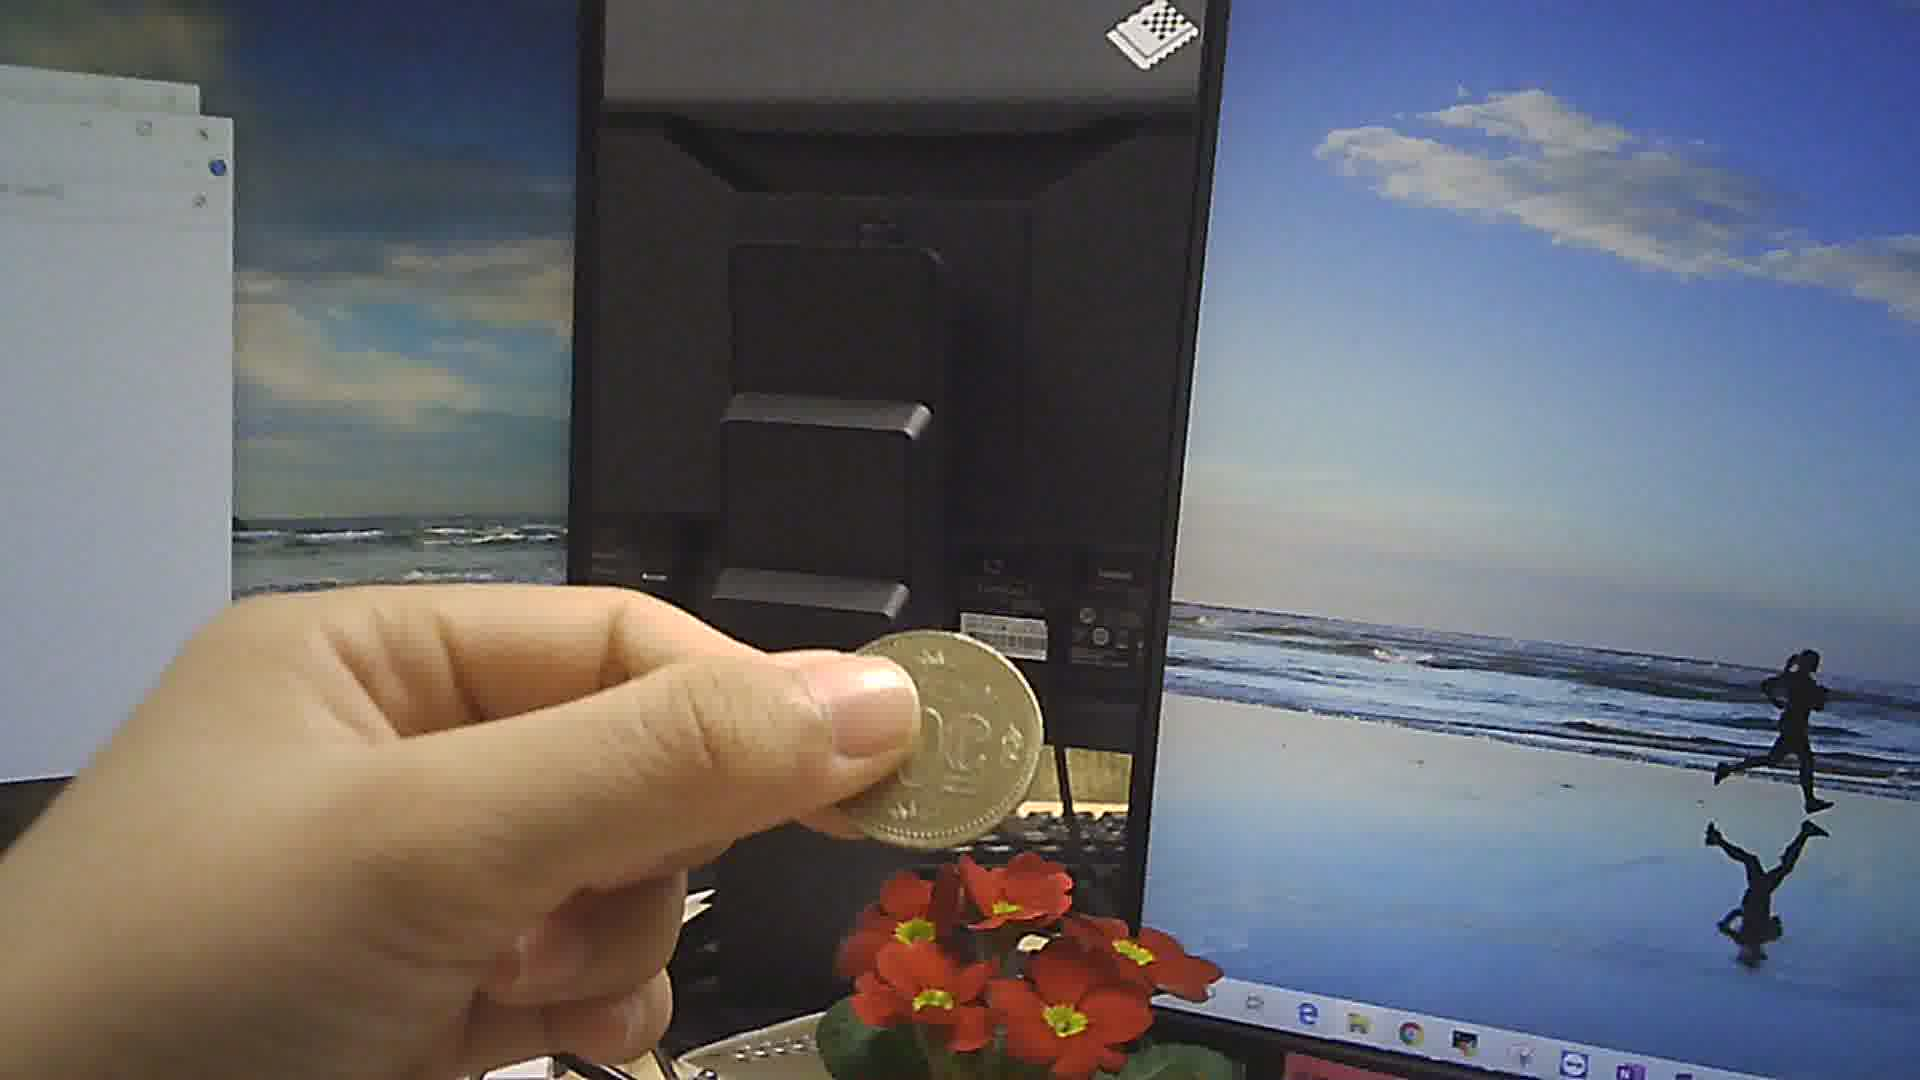500 Yen: (815, 620, 1047, 851)
